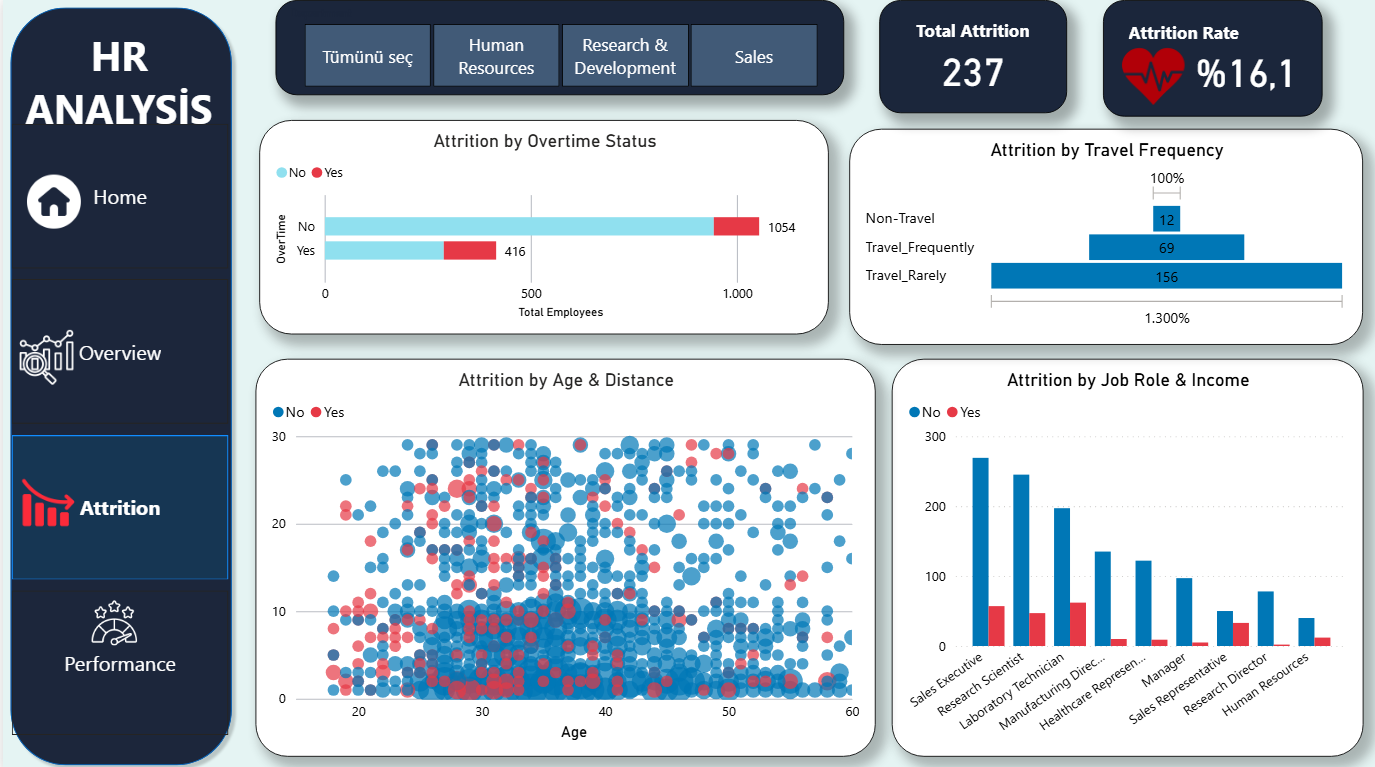

Layout of this report page (visuals, bound fields, positions):
{"tool":"powerbi","page":{"name":"Attrition","canvas":[1280,720],"ordinal":2},"visuals":[{"type":"cardVisual","fields":{"Data":["HR-Employee-Attrition.Turnover Oranı"]},"box":[1026.2,0,205,108.8],"z":0,"group":"g1"},{"type":"barChart","title":"Attrition by Overtime Status","fields":{"Category":["HR-Employee-Attrition.OverTime"],"Y":["HR-Employee-Attrition.Toplam Çalışan"],"Series":["HR-Employee-Attrition.Attrition"]},"box":[239,111.6,531.5,200],"z":0},{"type":"image","box":[1036.5,37.1,73,68.1],"z":1000,"group":"g1"},{"type":"clusteredColumnChart","title":"Attrition by Job Role & Income","fields":{"Category":["HR-Employee-Attrition.JobRole"],"Y":["CountNonNull(HR-Employee-Attrition.MonthlyIncome)"],"Series":["HR-Employee-Attrition.Attrition"]},"box":[828.8,334.2,439.7,371.2],"z":1000},{"type":"slicer","fields":{"Values":["HR-Employee-Attrition.Department"]},"box":[253.8,0,530.1,89],"z":2000},{"type":"scatterChart","title":"Attrition by Age & Distance","fields":{"X":["HR-Employee-Attrition.Age"],"Y":["HR-Employee-Attrition.DistanceFromHome"],"Series":["HR-Employee-Attrition.Attrition"],"Size":["CountNonNull(HR-Employee-Attrition.JobRole)"]},"box":[235.6,334.2,578.1,371.2],"z":3000},{"type":"shape","box":[0,0,220.4,720.7],"z":4000},{"type":"pageNavigator","box":[8.5,115.9,202.1,572.3],"z":5000},{"type":"funnel","title":"Attrition by Travel Frequency","fields":{"Category":["HR-Employee-Attrition.BusinessTravel"],"Y":["HR-Employee-Attrition.Ayrılan Sayısı"]},"box":[789,120.5,479.5,201.4],"z":6000},{"type":"textbox","box":[5.3,21.2,204.8,146.5],"z":7000},{"type":"image","box":[8.8,438.8,66.2,61.2],"z":8000},{"type":"cardVisual","fields":{"Data":["HR-Employee-Attrition.Ayrılan Sayısı"]},"box":[817.3,0,175.3,105.5],"z":9000},{"type":"image","box":[75,555,58.8,52.5],"z":10000},{"type":"image","box":[7.5,302.5,67.5,62.5],"z":11000},{"type":"image","box":[17.5,148.8,60,77.5],"z":12000},{"type":"group","id":"g1","title":"Group 1","box":[1026.2,0,205,108.8],"z":13000}]}

Visuals, with their boxes in screenshot pixels (x1, y1, x2, y2), scaled from the page's 1280x720 canvas onto the 1375x767 screenshot:
cardVisual - HR-Employee-Attrition.Turnover Oranı: {"left": 1102, "top": 0, "right": 1323, "bottom": 116}
"Attrition by Overtime Status" barChart: {"left": 257, "top": 119, "right": 828, "bottom": 332}
image: {"left": 1113, "top": 40, "right": 1192, "bottom": 112}
"Attrition by Job Role & Income" clusteredColumnChart: {"left": 890, "top": 356, "right": 1363, "bottom": 751}
slicer - HR-Employee-Attrition.Department: {"left": 273, "top": 0, "right": 842, "bottom": 95}
"Attrition by Age & Distance" scatterChart: {"left": 253, "top": 356, "right": 874, "bottom": 751}
shape: {"left": 0, "top": 0, "right": 237, "bottom": 766}
pageNavigator: {"left": 9, "top": 123, "right": 226, "bottom": 733}
"Attrition by Travel Frequency" funnel: {"left": 848, "top": 128, "right": 1363, "bottom": 343}
textbox: {"left": 6, "top": 23, "right": 226, "bottom": 179}
image: {"left": 9, "top": 467, "right": 81, "bottom": 533}
cardVisual - HR-Employee-Attrition.Ayrılan Sayısı: {"left": 878, "top": 0, "right": 1066, "bottom": 112}
image: {"left": 81, "top": 591, "right": 144, "bottom": 647}
image: {"left": 8, "top": 322, "right": 81, "bottom": 389}
image: {"left": 19, "top": 159, "right": 83, "bottom": 241}
"Group 1" group: {"left": 1102, "top": 0, "right": 1323, "bottom": 116}
